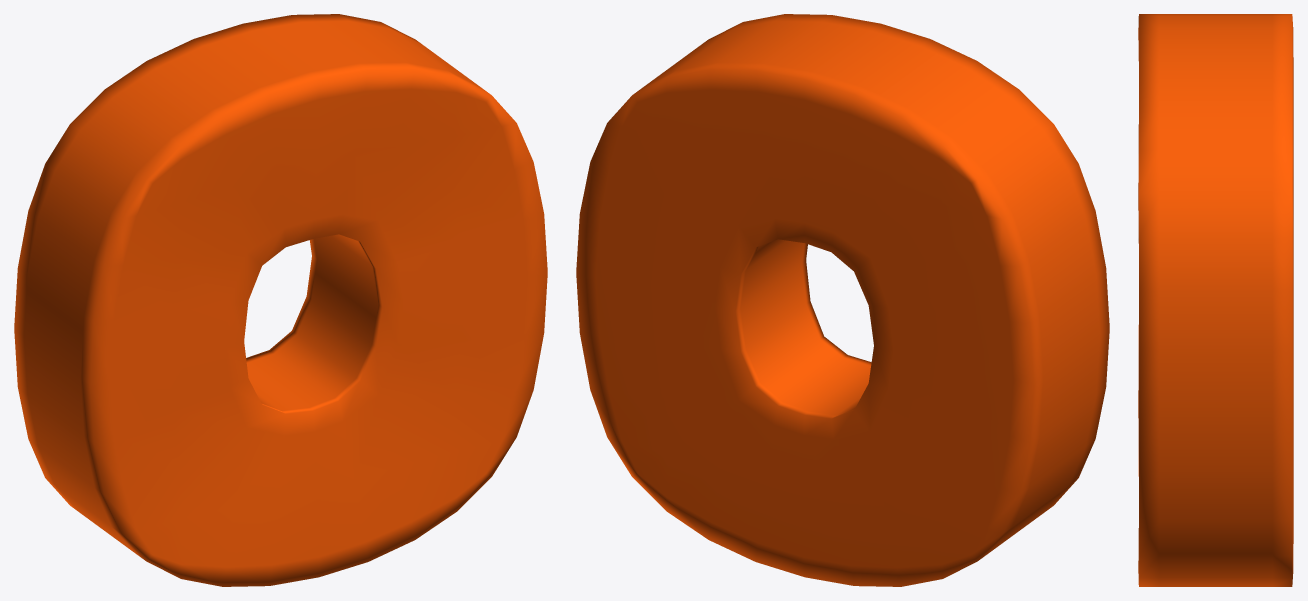
3 renders of one model, left to right at view 1: azimuth 30°, elevation 25°; view 2: azimuth 150°, elevation 25°; view 3: azimuth 270°, elevation 25°, orthographic.
Parts seen in each view (by area): view 1: OOO; view 2: OOO; view 3: OOO.
Part boxes in pixels (x1,y1,x2,y2): OOO: [14, 14, 547, 586]; OOO: [576, 14, 1109, 586]; OOO: [1138, 14, 1293, 586].
Bounding box in the file's own units: 0.4659 × 0.4846 × 0.1359.
